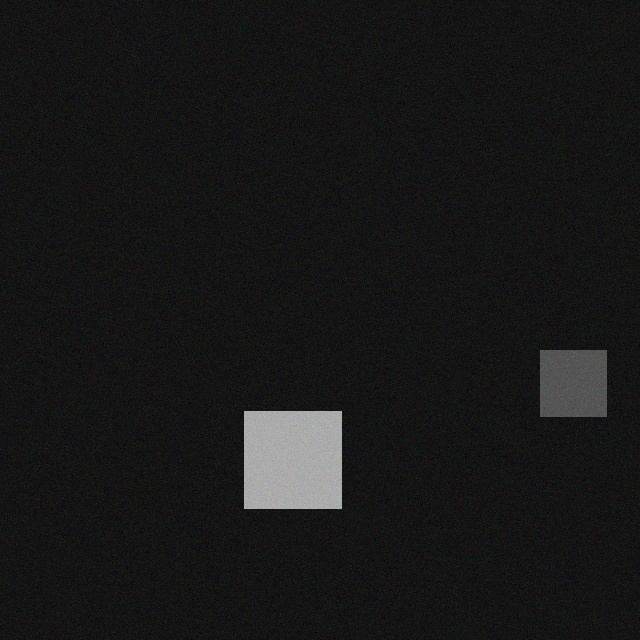square: (257, 399, 354, 496), (553, 338, 619, 404)
